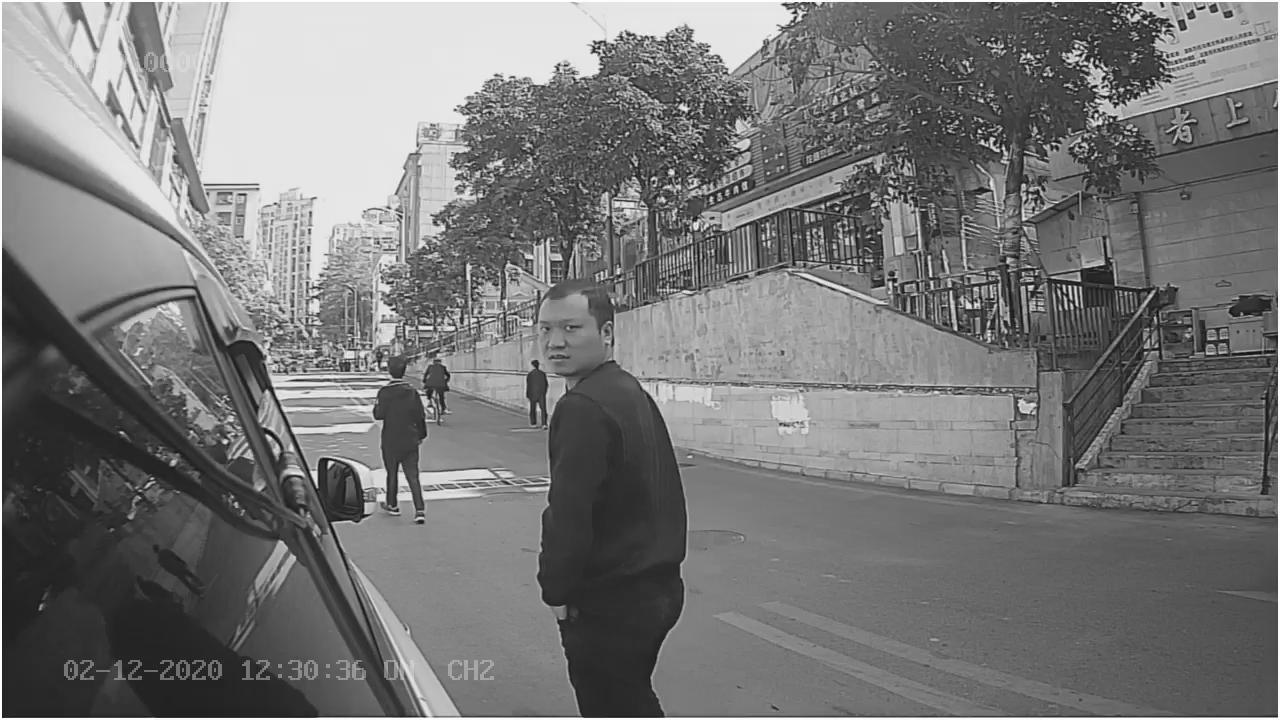person: (528, 273, 708, 628)
